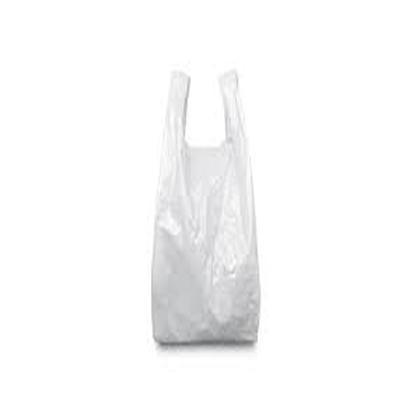plastic bag: (152, 69, 260, 345)
